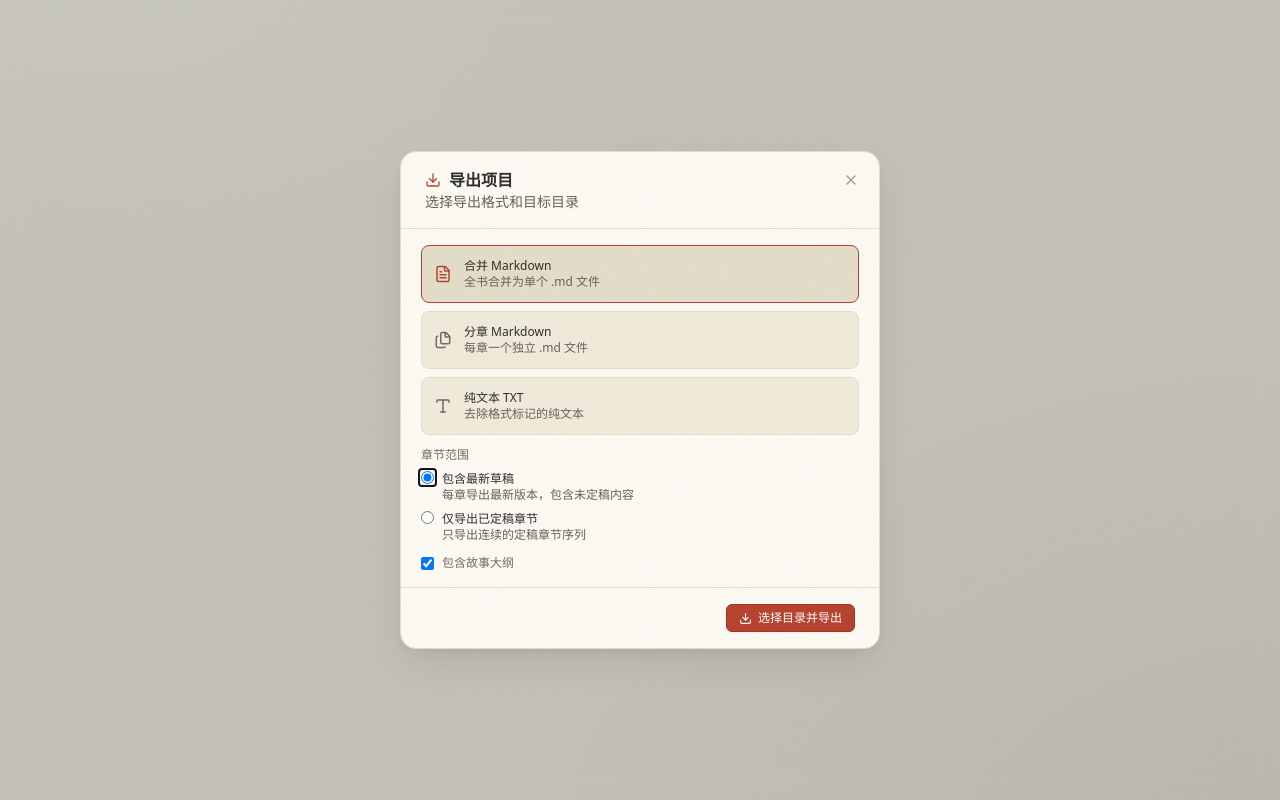
Test: exports finalized content when finalized-only mode is selected
Click the radio button labelled "仅导出已定稿章节 只导出连续的定稿章节序列": point(428, 518) [421,511,434,524]
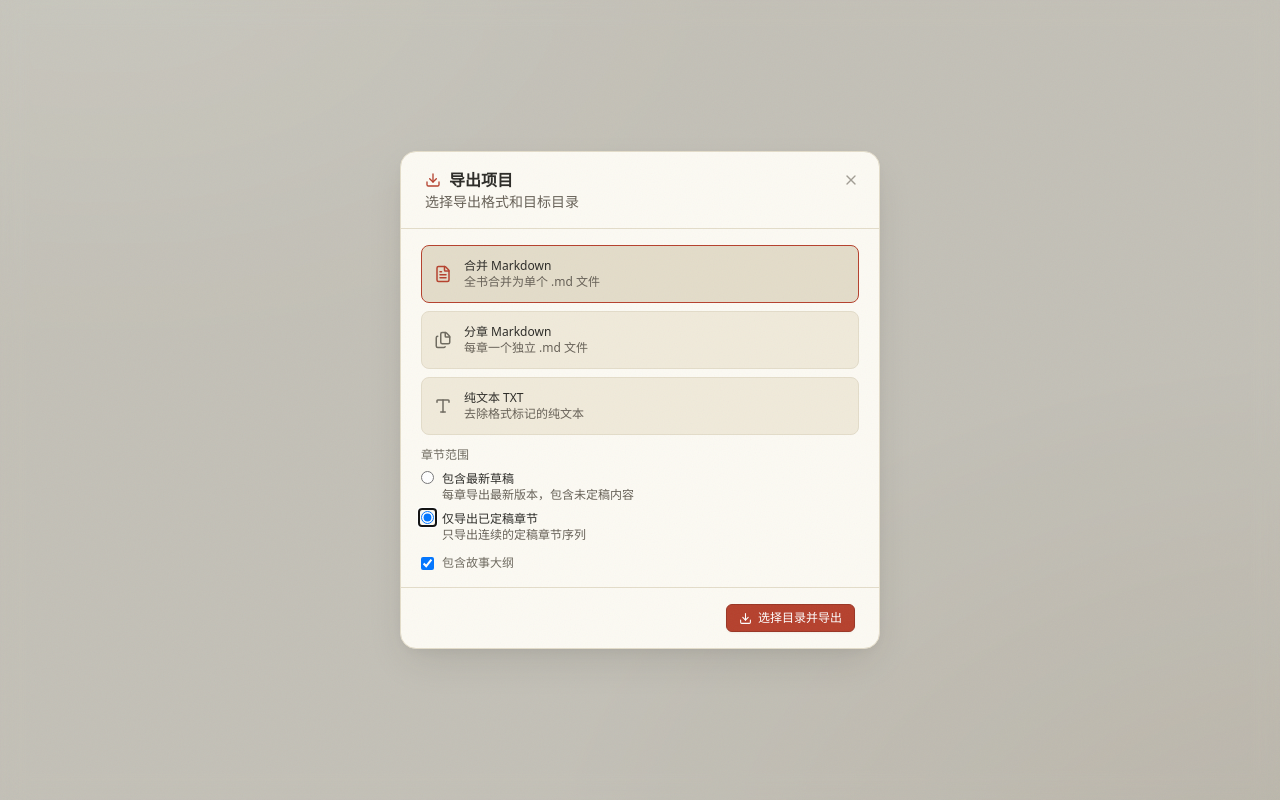
Click the button "选择目录并导出": point(790, 618) [726,604,855,632]
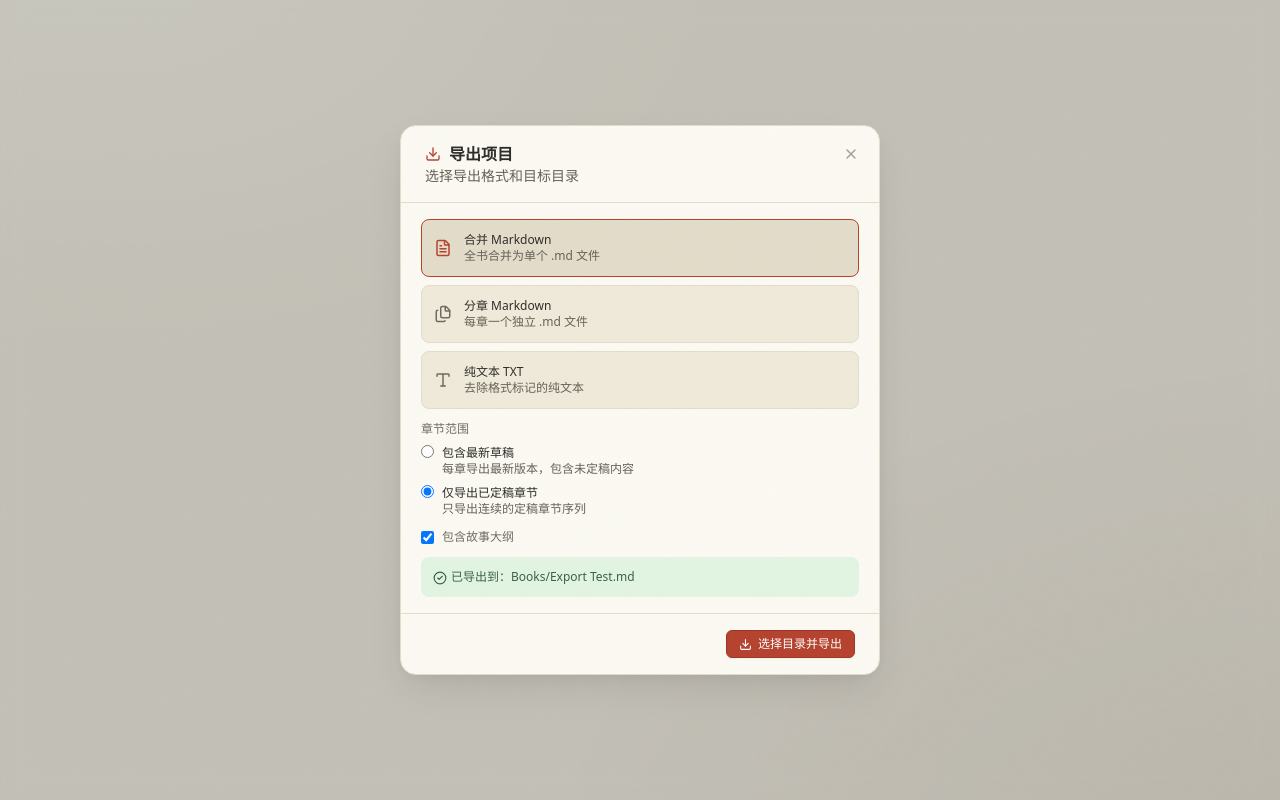
Now the text "已导出到：Books/Export Test.md" is shown, box [421,557,859,597]
